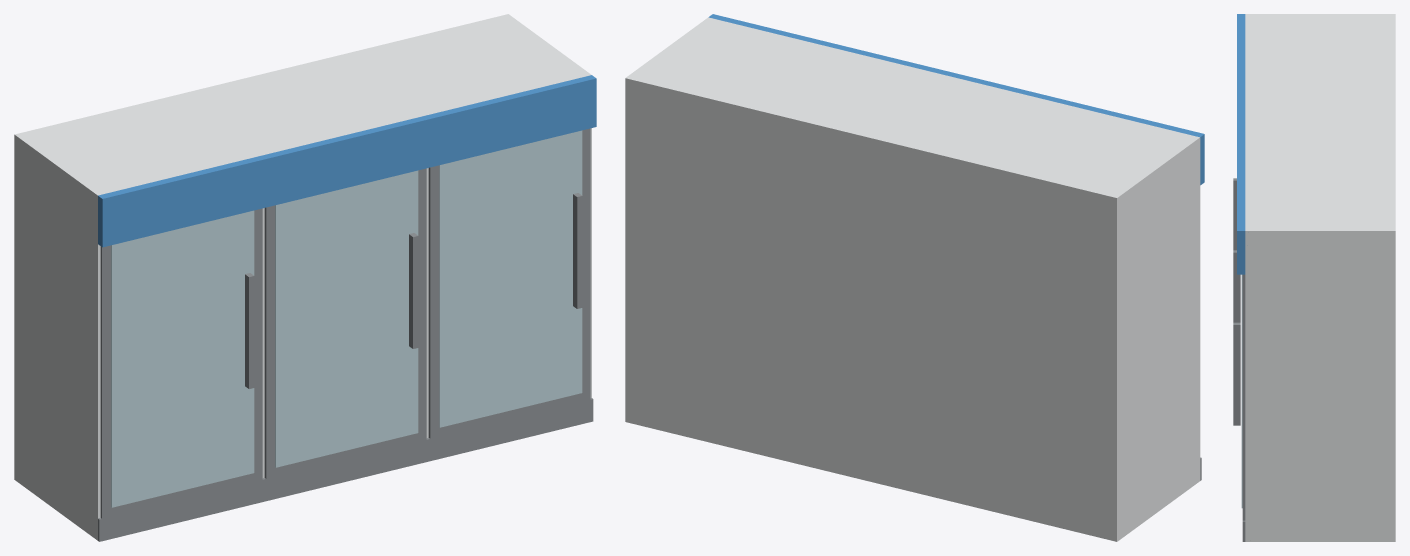
File: dm_grocerychiller.glb
The picture shows the model from 3 angles, left to right: view 1: azimuth 30°, elevation 25°; view 2: azimuth 150°, elevation 25°; view 3: azimuth 270°, elevation 25°; orthographic projection. The views are drawn at different scales.
Parts seen in each view (by area): view 1: dm_grocerychiller; view 2: dm_grocerychiller; view 3: dm_grocerychiller.
Boxes of the visible parts, x1,y1,x2,y2 form: dm_grocerychiller: (14, 14, 596, 541); dm_grocerychiller: (625, 14, 1204, 541); dm_grocerychiller: (1233, 14, 1395, 541).
Bounding box in the file's own units: 2.77 × 1.85 × 0.875.
